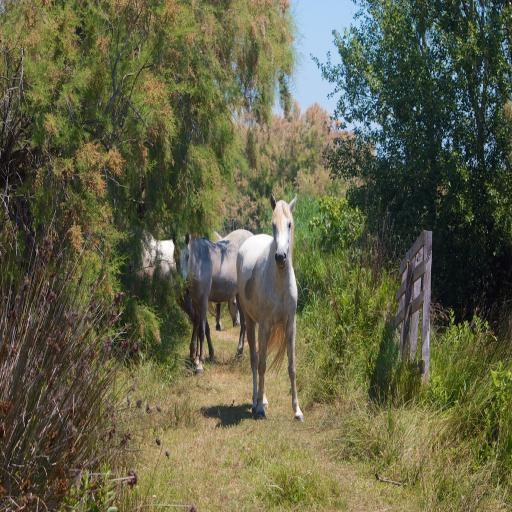horse: (236, 193, 306, 420), (124, 224, 214, 360), (170, 233, 254, 378)
